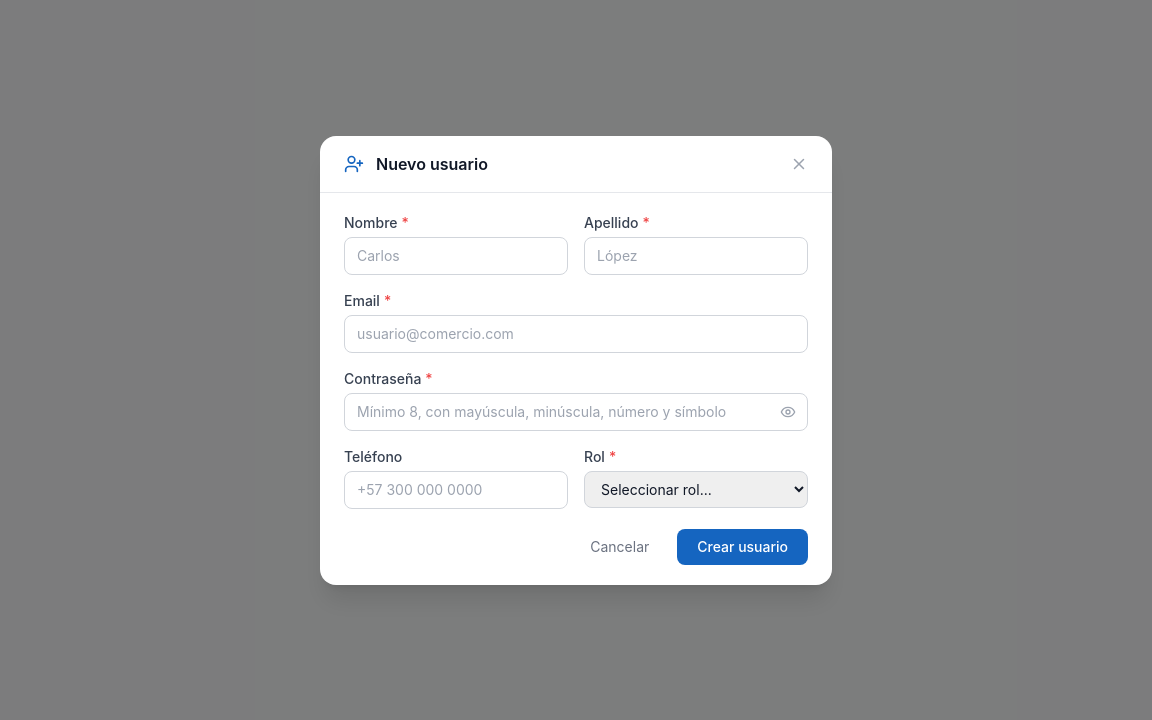
Scenario: UserFormModal branch assignment › rejects creating Waiter without a branch
In the field with placeholder "Carlos": (456, 256) [344,236,568,274], type "New"
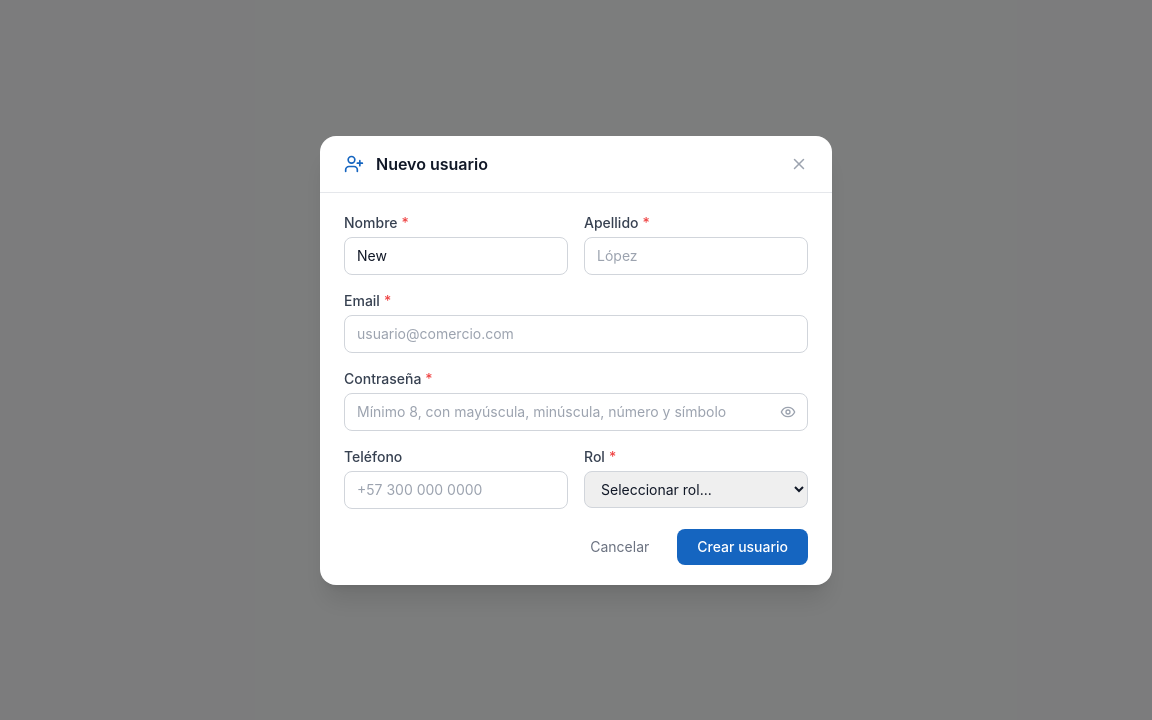
In the field with placeholder "López": (696, 256) [584,236,808,274], type "User"
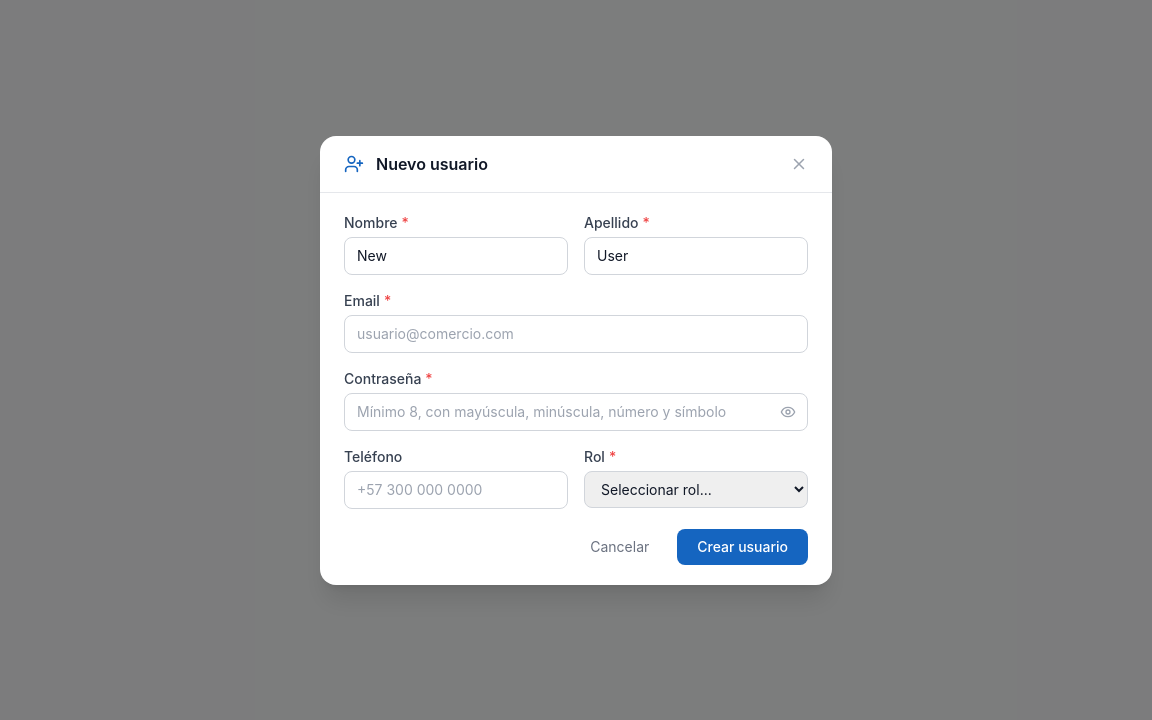
In the field with placeholder "usuario@comercio.com": (576, 334) [344,314,808,352], type "new@test.local"
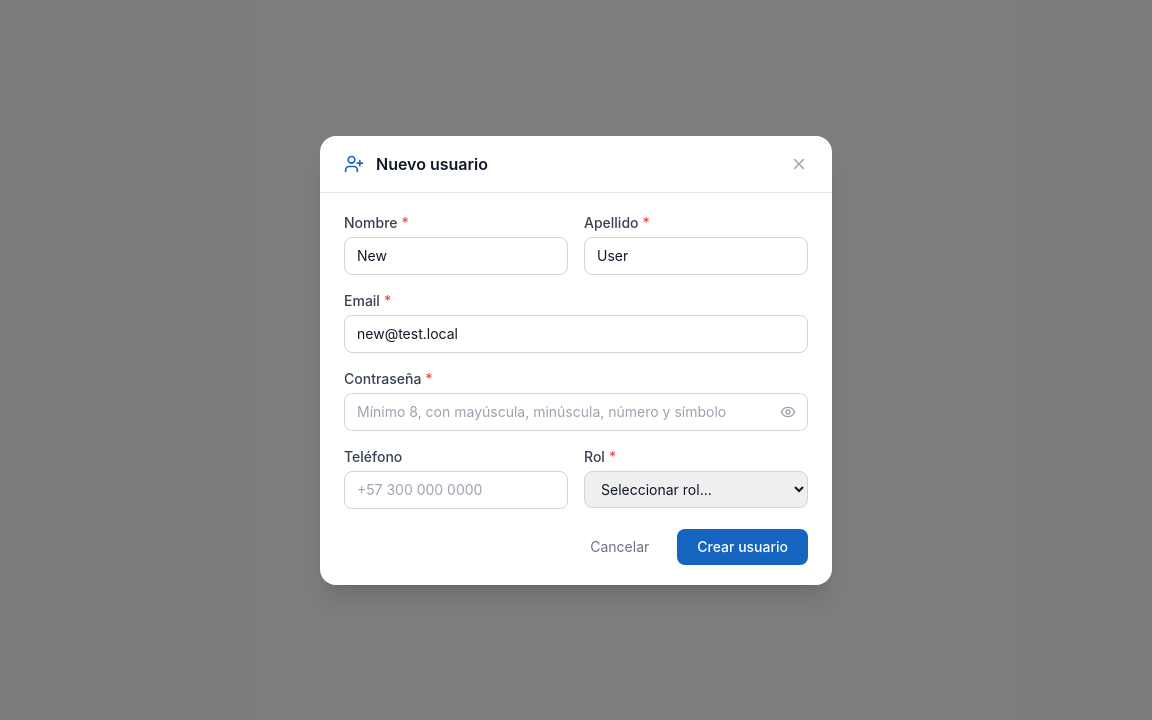
In the password field with placeholder "Mínimo 8, con mayúscula, minúscula, número y símbolo": (576, 412) [344,392,808,430], type "Changed2@"
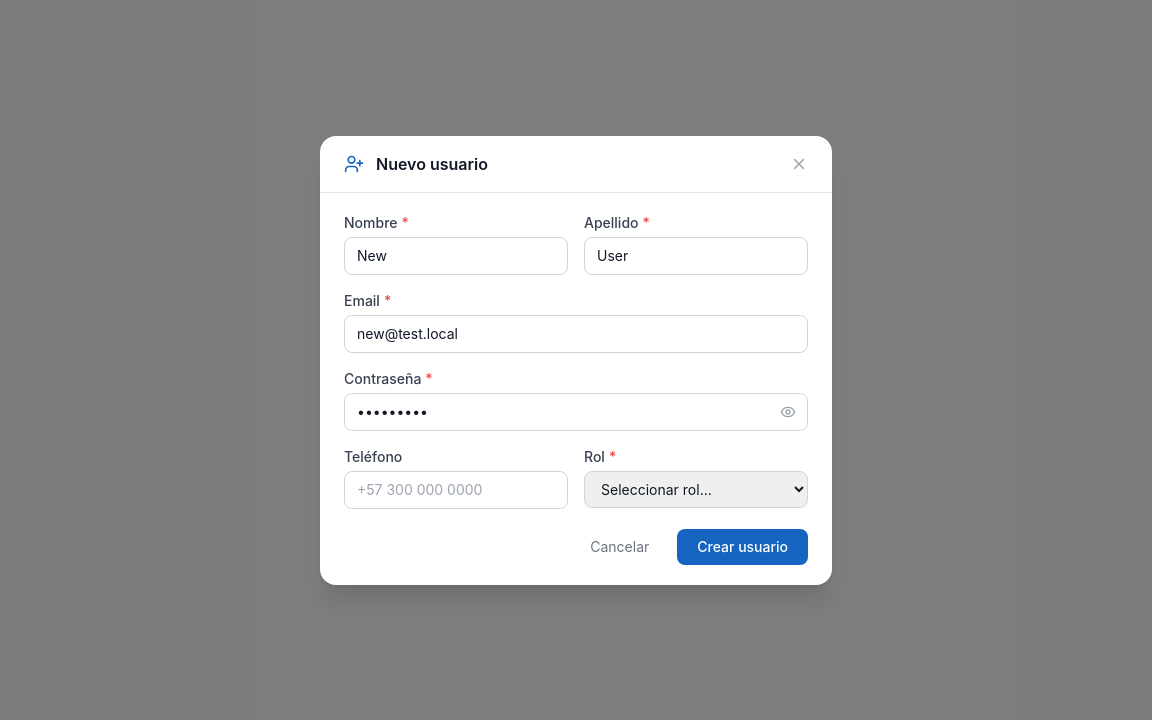
Select "Waiter" in the dropdown: (696, 489) [584,470,808,508]
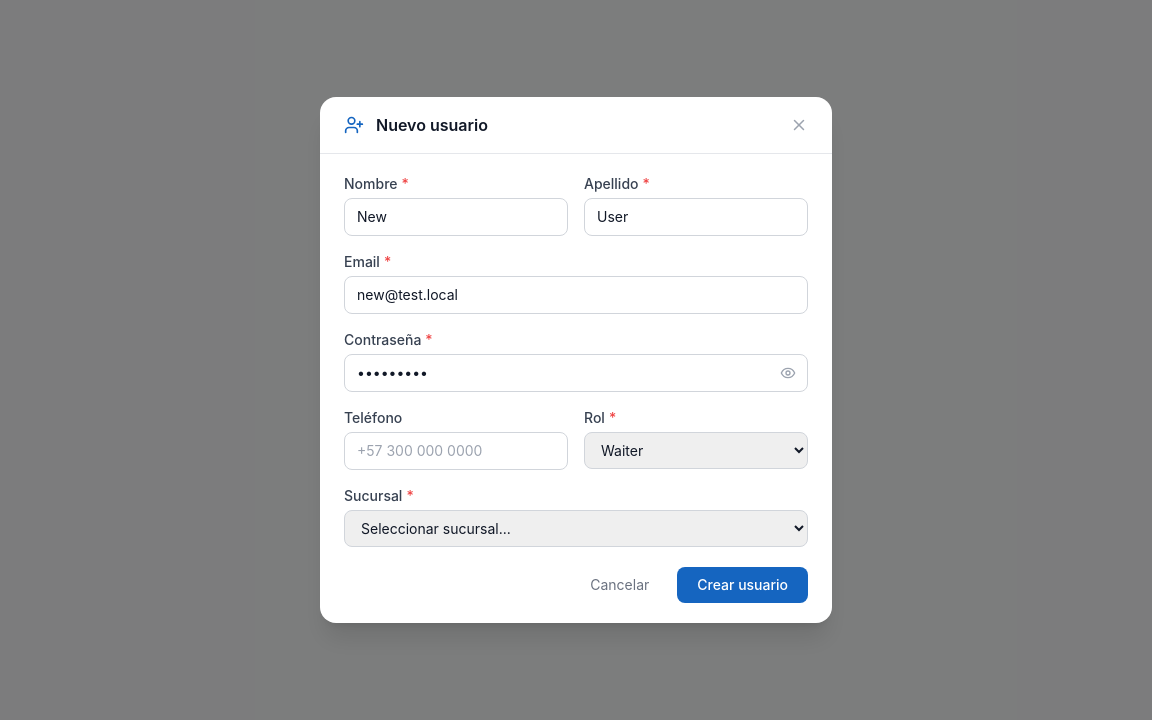
Click the button "Crear usuario": (743, 585) [677,567,808,603]
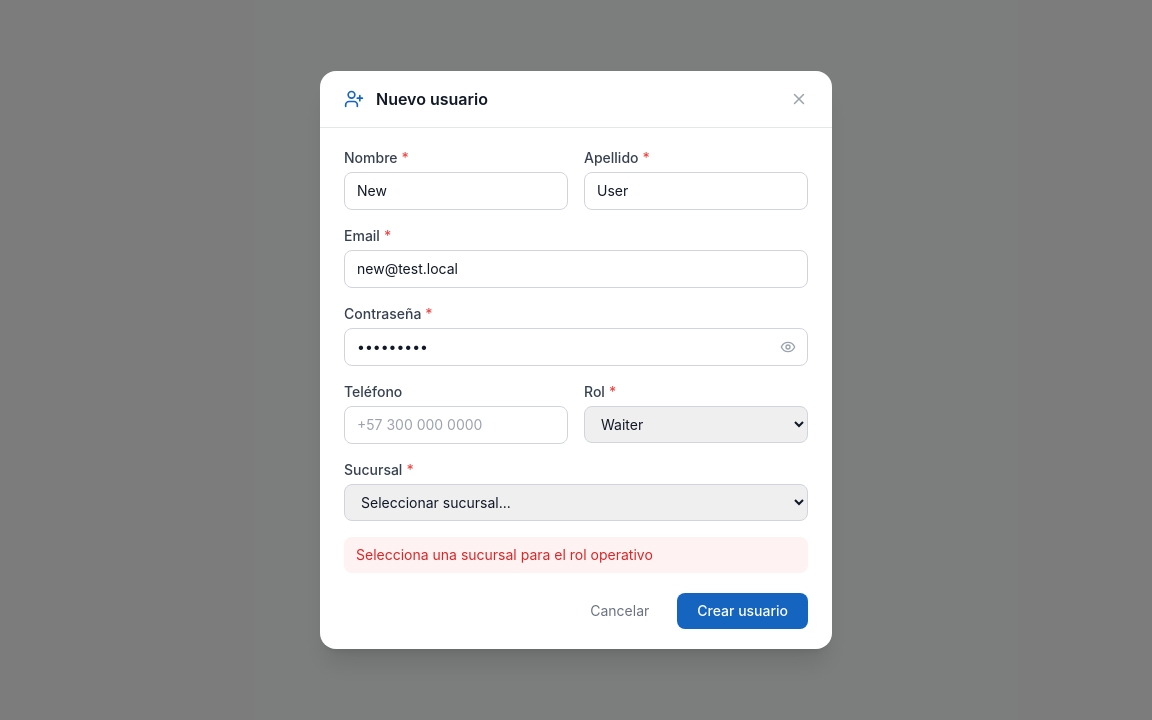
Expected: the text "Selecciona una sucursal para el rol operativo" is shown, [344,537,808,573]
